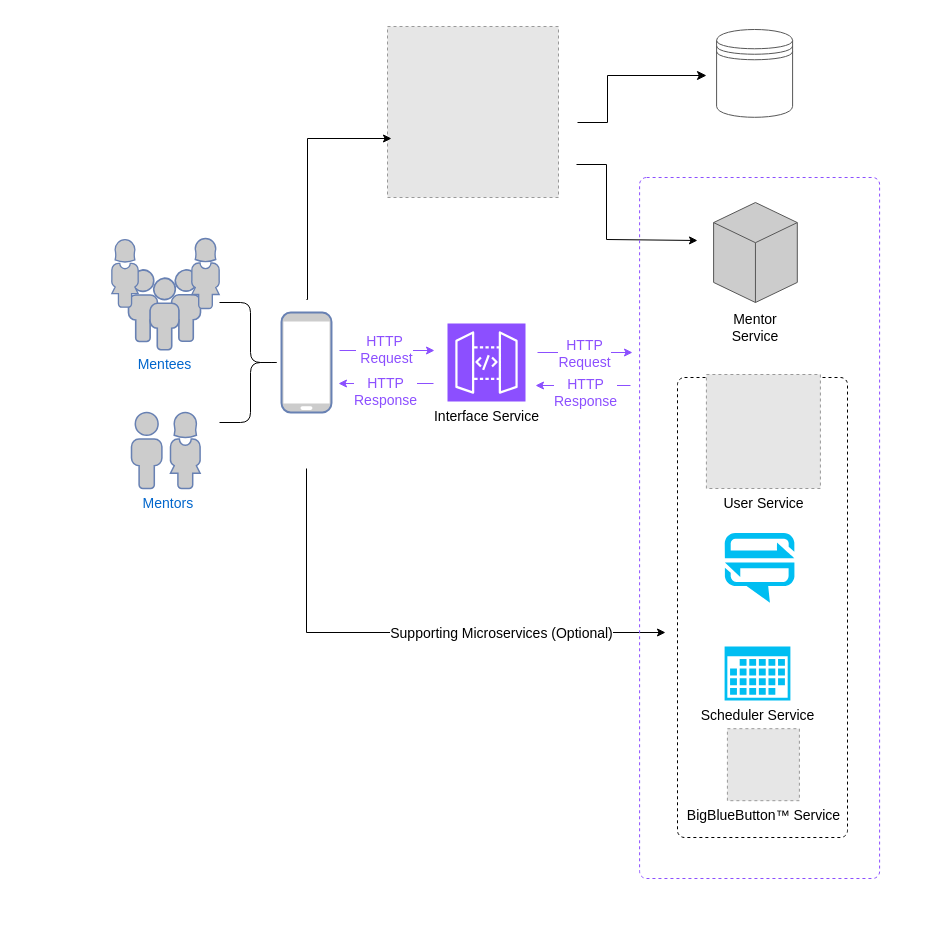
The diagram is 944 pixels wide and 934 high, and some of its shapes have lost their labels. Grey dashed boxes stand in for pictures. Each missing label, with the centre of its shape:
Mentor Mobile App: the point at 306,362
Notification Service: the point at 759,567
PostgreSQL: the point at 754,72
